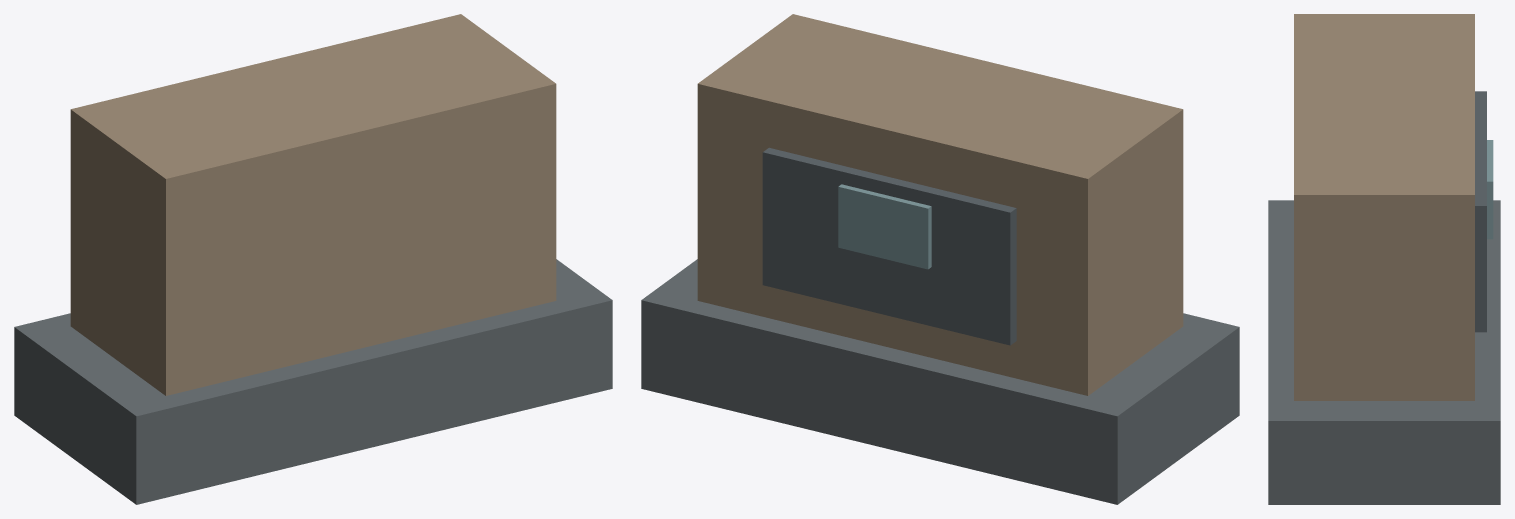
Rendered from iz3_production_electronics_02.glb.
The picture shows the model from 3 angles, left to right: view 1: azimuth 30°, elevation 25°; view 2: azimuth 150°, elevation 25°; view 3: azimuth 270°, elevation 25°; orthographic projection. The views are drawn at different scales.
Visible parts, largest first — view 1: cabinet, base; view 2: cabinet, base, panel, display; view 3: cabinet, base, panel, display.
Boxes of the visible parts, x1,y1,x2,y2 form: cabinet: [70, 14, 556, 395]; base: [14, 259, 612, 504]; cabinet: [697, 14, 1183, 395]; base: [641, 259, 1239, 504]; panel: [762, 147, 1016, 345]; display: [838, 184, 931, 269]; cabinet: [1294, 14, 1474, 400]; base: [1268, 200, 1500, 504]; panel: [1475, 91, 1486, 332]; display: [1487, 140, 1493, 239].
Bounding box in the file's own units: 1.8 × 1.1 × 0.8.
